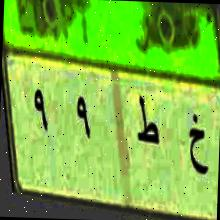9: (73, 88, 95, 150), (30, 82, 50, 140)
Taa: (132, 89, 162, 155)
khaa: (181, 109, 217, 184)
